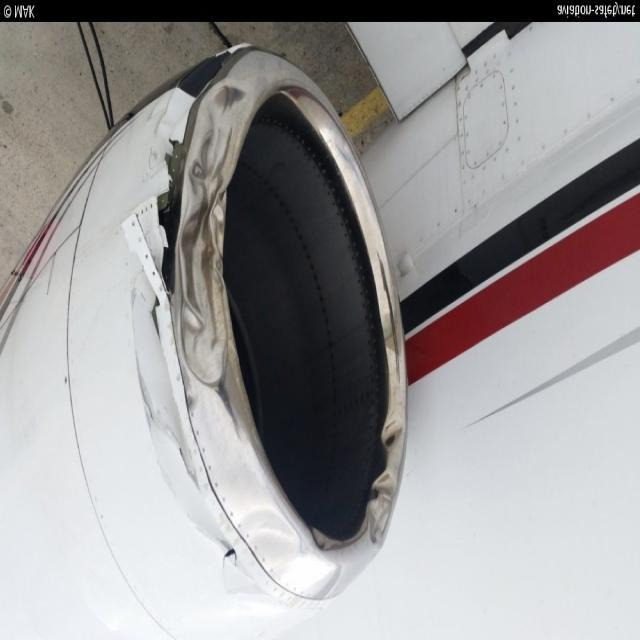dent: (181, 127, 231, 391), (237, 510, 305, 563), (367, 472, 401, 552), (215, 89, 249, 125), (375, 421, 407, 453)
